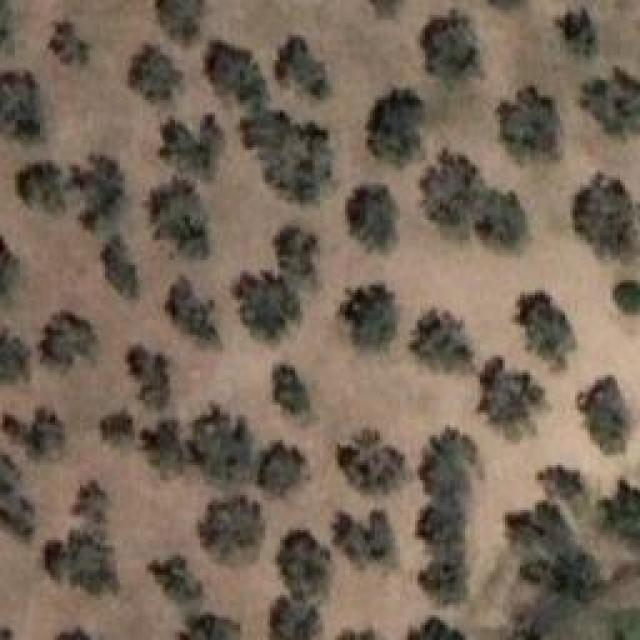Tree: (242, 110, 332, 202), (477, 358, 545, 438), (148, 178, 211, 259), (575, 173, 635, 256), (190, 405, 254, 482), (423, 150, 486, 228), (45, 530, 119, 596), (498, 85, 559, 162), (515, 293, 575, 370), (232, 273, 300, 340), (205, 43, 269, 114), (198, 495, 262, 566), (368, 90, 424, 167), (160, 115, 225, 180), (70, 155, 124, 232), (338, 430, 404, 493), (578, 378, 632, 455), (580, 68, 640, 136), (420, 10, 478, 80), (420, 428, 479, 496), (525, 548, 600, 600), (340, 283, 398, 350), (278, 530, 332, 600), (503, 498, 580, 547), (410, 310, 470, 372), (40, 310, 99, 366), (348, 185, 398, 250), (128, 45, 183, 103), (165, 278, 216, 340), (335, 510, 394, 562), (3, 407, 64, 457), (277, 35, 325, 98), (475, 190, 528, 247), (415, 553, 472, 604), (0, 452, 34, 537), (128, 345, 171, 408), (65, 480, 119, 529), (140, 420, 184, 480), (415, 493, 465, 544), (257, 443, 305, 496), (3, 72, 42, 136), (600, 480, 640, 542), (148, 560, 203, 603), (270, 598, 325, 640), (20, 164, 65, 214), (275, 227, 319, 277), (103, 235, 138, 297), (267, 363, 312, 411), (155, 0, 203, 43), (555, 10, 596, 58), (50, 23, 90, 65), (538, 465, 584, 501), (0, 327, 30, 382), (180, 613, 240, 640), (407, 615, 465, 640), (98, 408, 136, 445), (0, 238, 18, 296), (613, 278, 640, 314)
